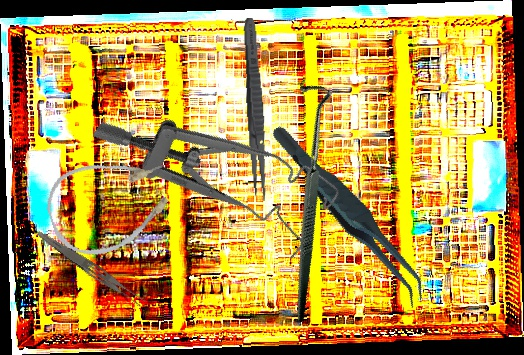Cannula: (38, 143, 184, 266)
Dressing Forceps: (33, 228, 148, 310), (239, 17, 272, 202)
Hook Surgical: (193, 76, 416, 323)
Speculum: (90, 52, 344, 277)
Tissue Forceps: (269, 101, 432, 329)
